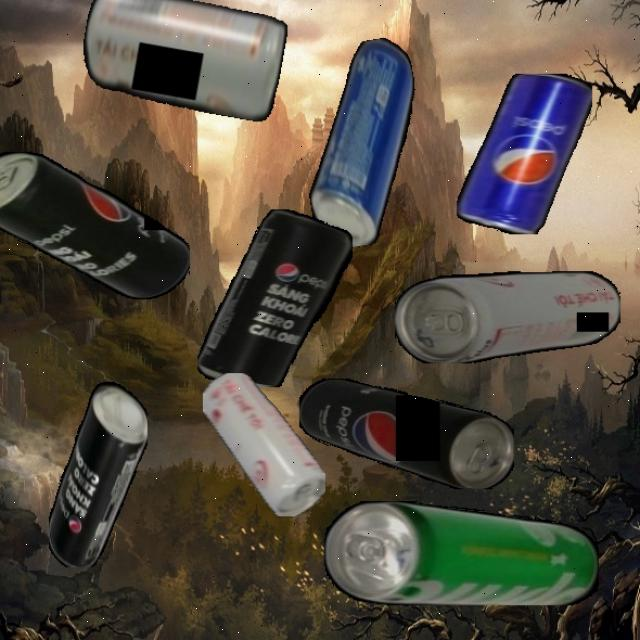debris: (286, 34, 440, 252), (324, 500, 599, 605), (0, 152, 190, 299), (198, 208, 352, 388), (76, 0, 290, 124), (298, 379, 514, 489), (456, 74, 592, 234), (395, 270, 620, 363), (48, 376, 148, 568), (203, 372, 325, 516)
